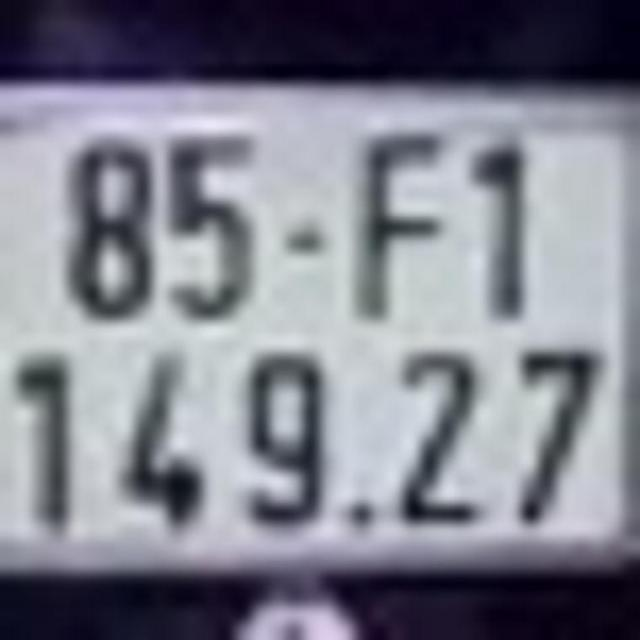1: (466, 124, 529, 319), (15, 348, 73, 526)
2: (395, 342, 481, 518)
4: (113, 343, 206, 523)
5: (162, 123, 258, 327), (64, 130, 157, 313)
7: (514, 339, 602, 528)
9: (246, 340, 325, 524)
F: (356, 127, 447, 320)
